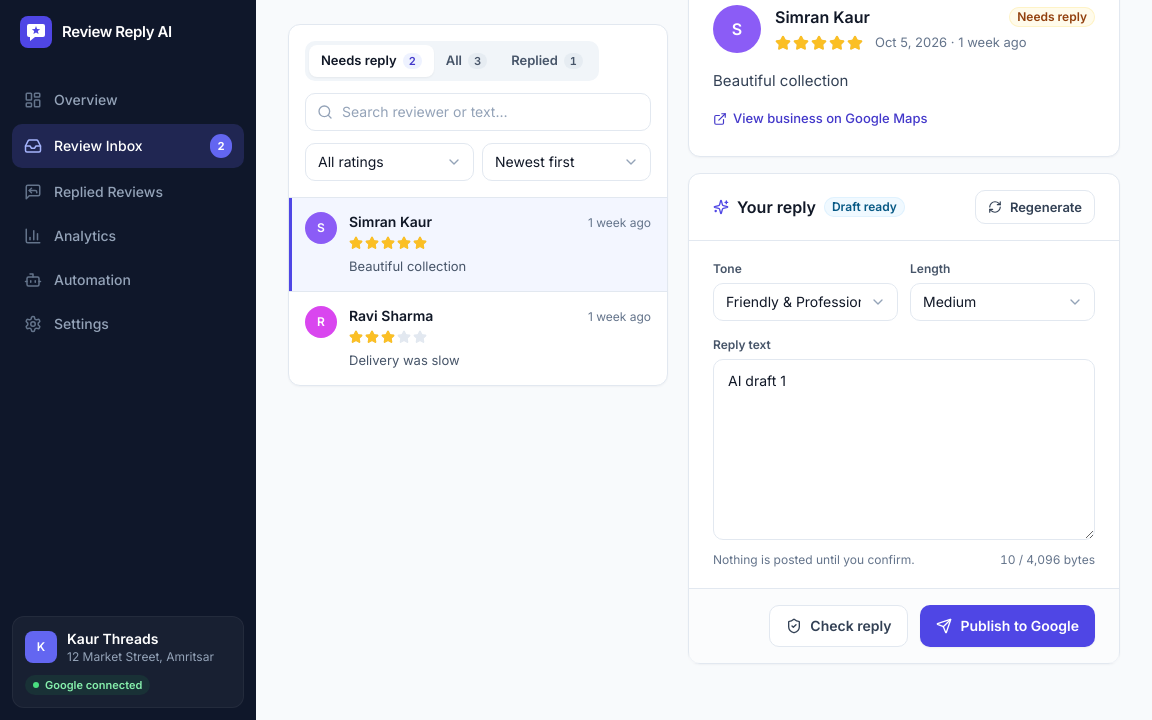
Test case: Reply workspace › asks before a regenerate replaces edited text, and keeps drafts when switching reviews
(page scrolled)
Replace the text in the text box labelled "Reply text" with "My own words" at (904,450), box [713,359,1095,540]
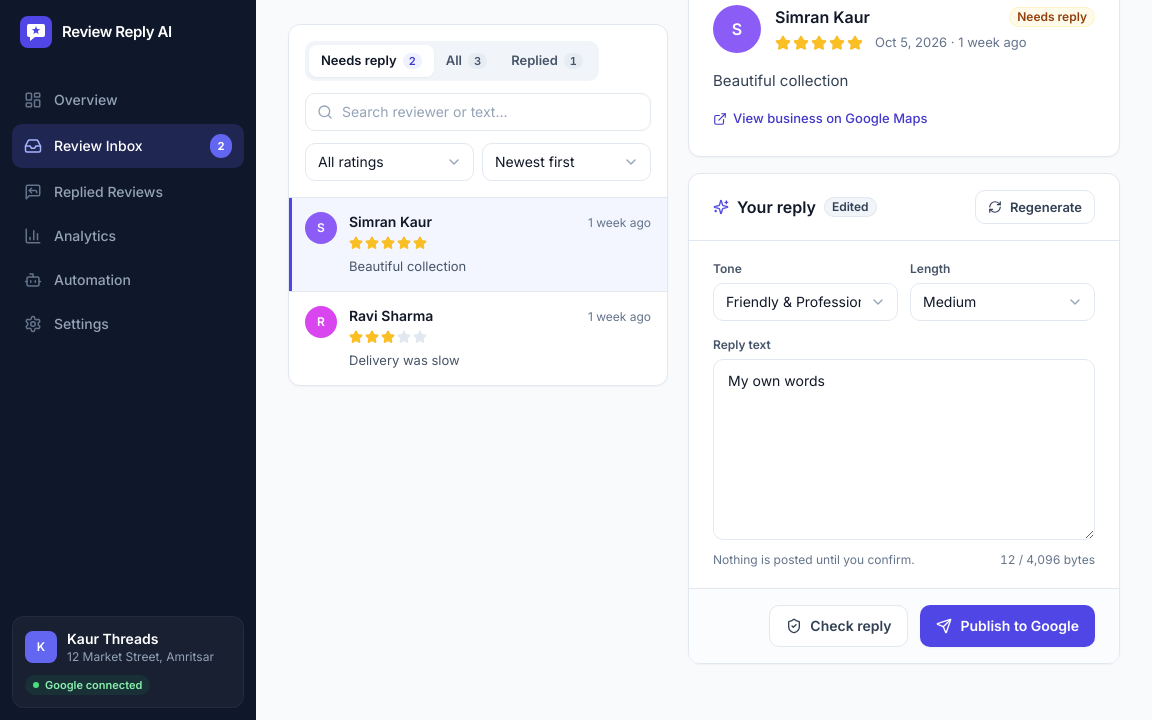
Click the button "Regenerate" at (1035,207), box [975,190,1095,224]
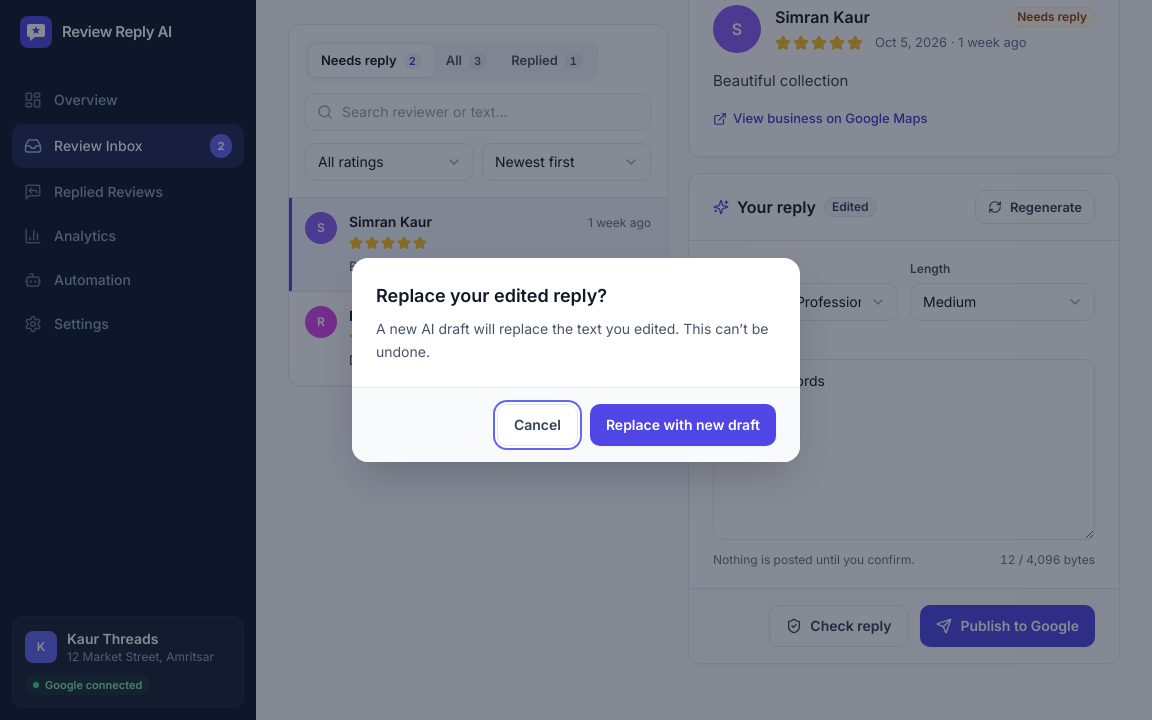
Click the button "Cancel" at (537,425), box [497,404,578,446]
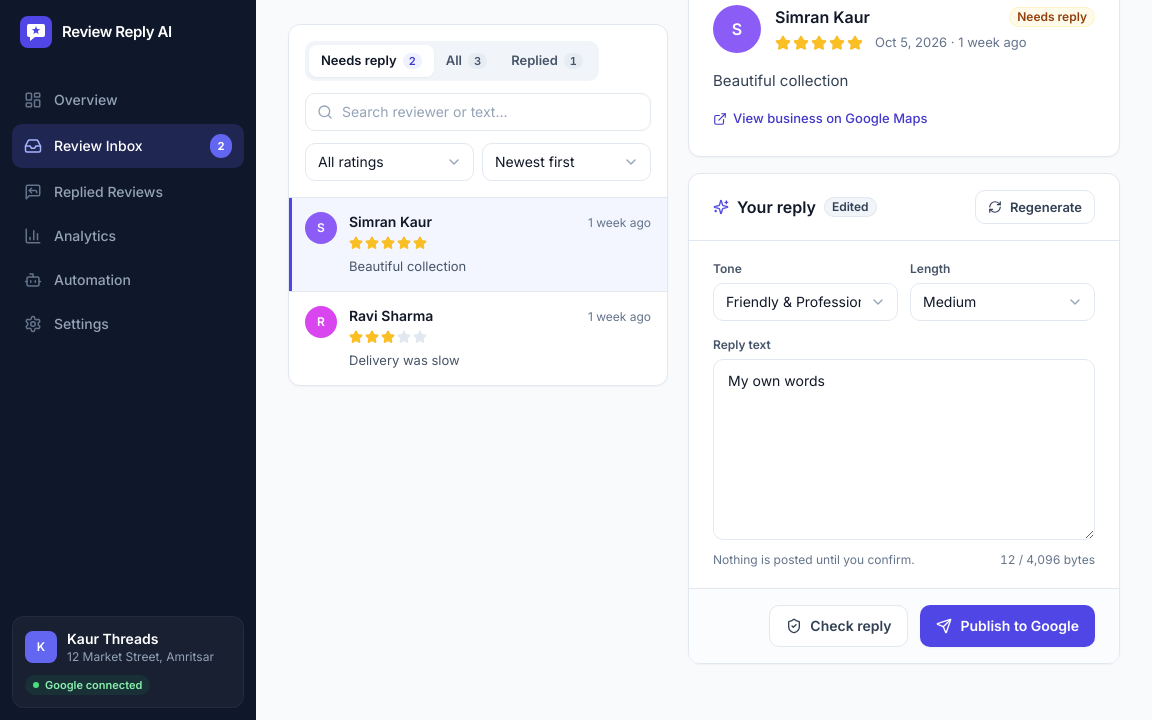
Note: Switch to another review and back: the edit is still there, no new AI call.
Click the text "Ravi Sharma" at (391,316), box [349,306,433,326]
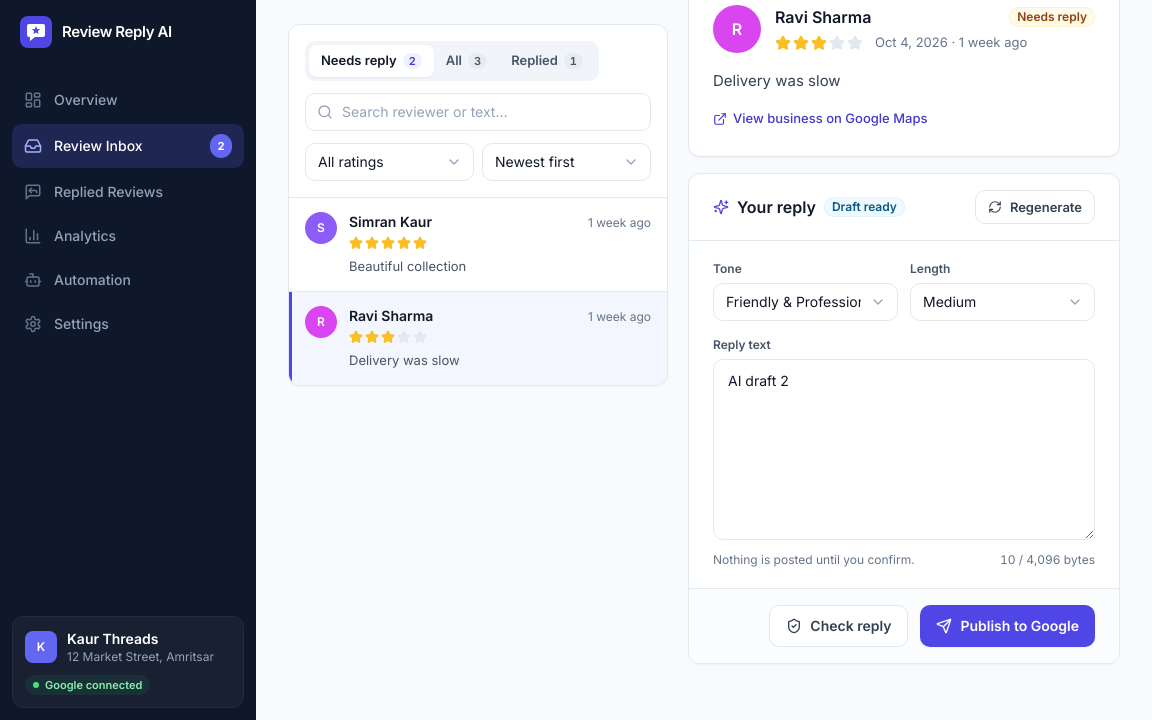
Result: the text box labelled "Reply text" holds "AI draft 2" at [713,359,1095,540]
Click the text "Simran Kaur" at (390,222), box [349,212,432,232]
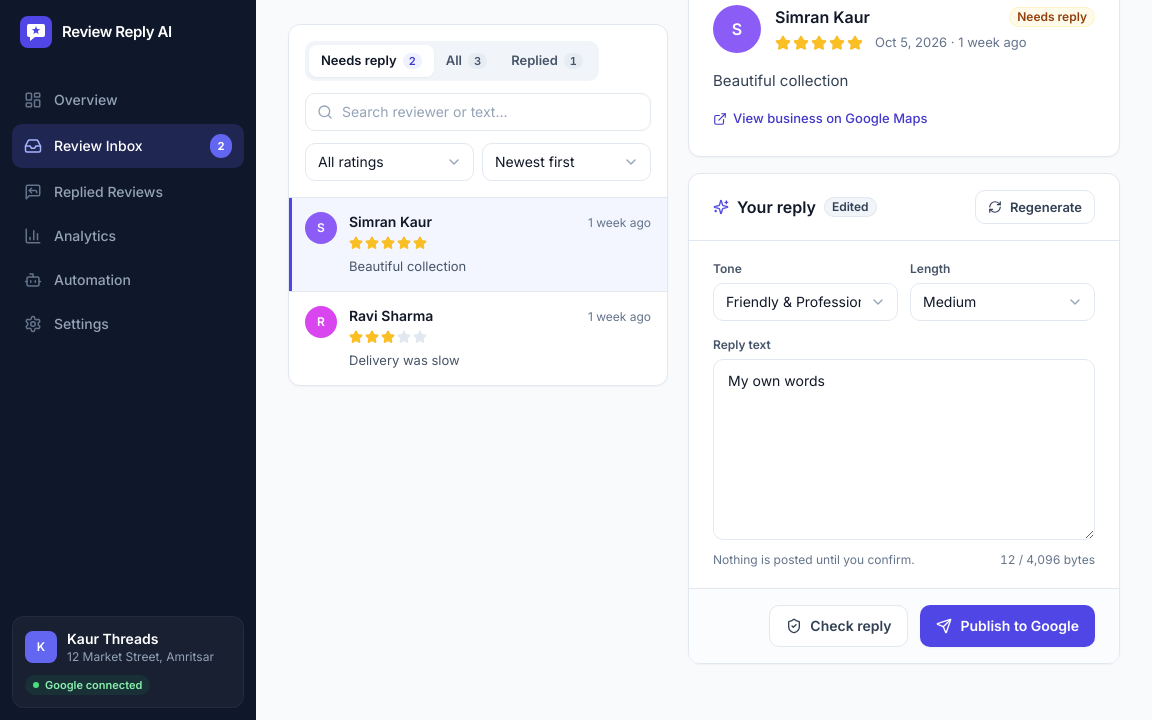
Result: the text box labelled "Reply text" holds "My own words" at [713,359,1095,540]
